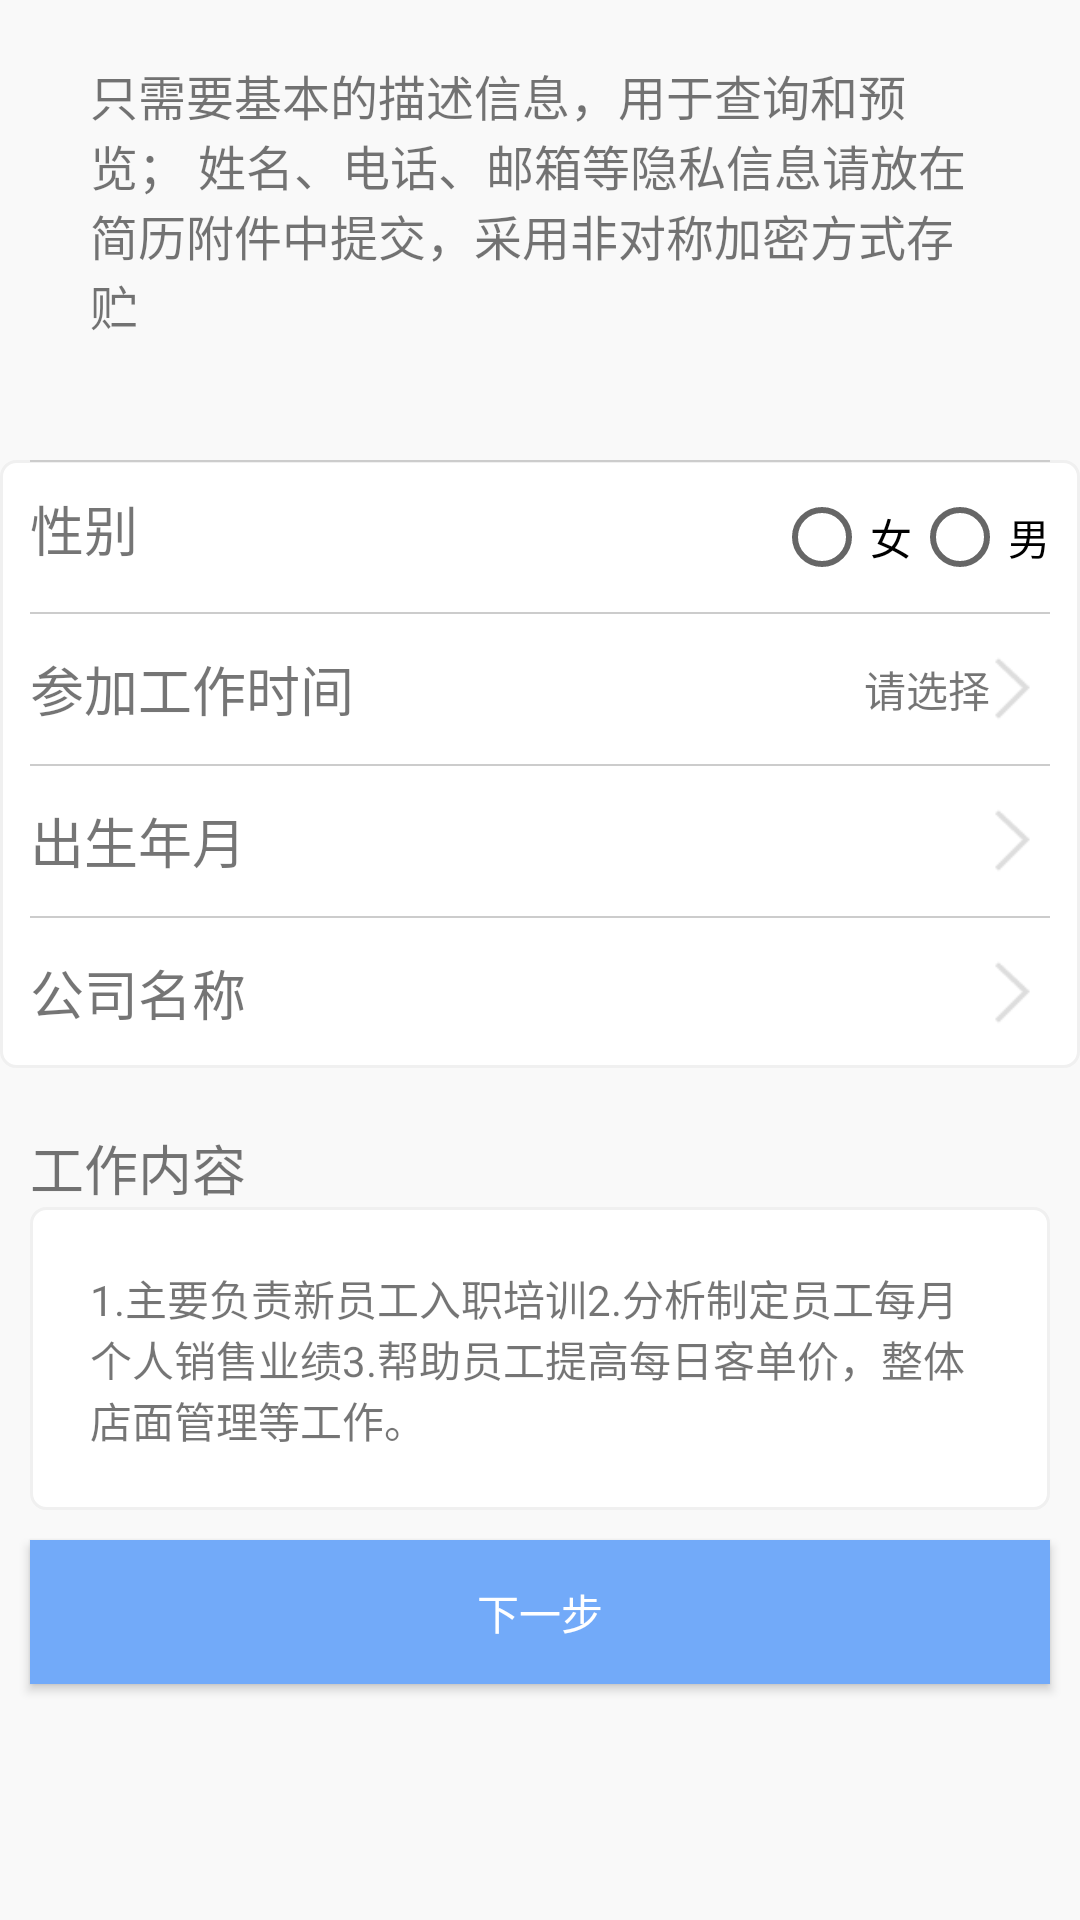

Screen size 1080px×1920px. Icon name, then its box in pixels as [left=x1, top=y1, right=x2, bottom=y2]:
right arrow: [left=996, top=660, right=1029, bottom=717], [left=996, top=812, right=1029, bottom=869], [left=996, top=964, right=1029, bottom=1021]
